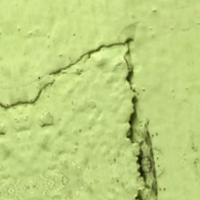crack: (7, 33, 177, 198)
